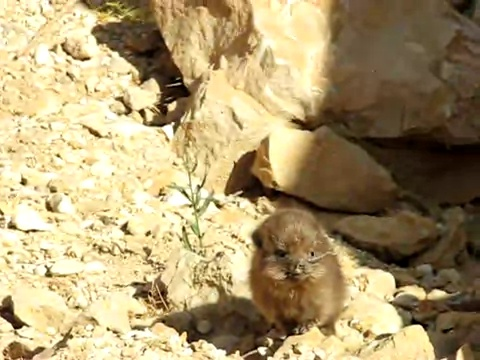Rock Hyrex: (249, 207, 346, 345)
